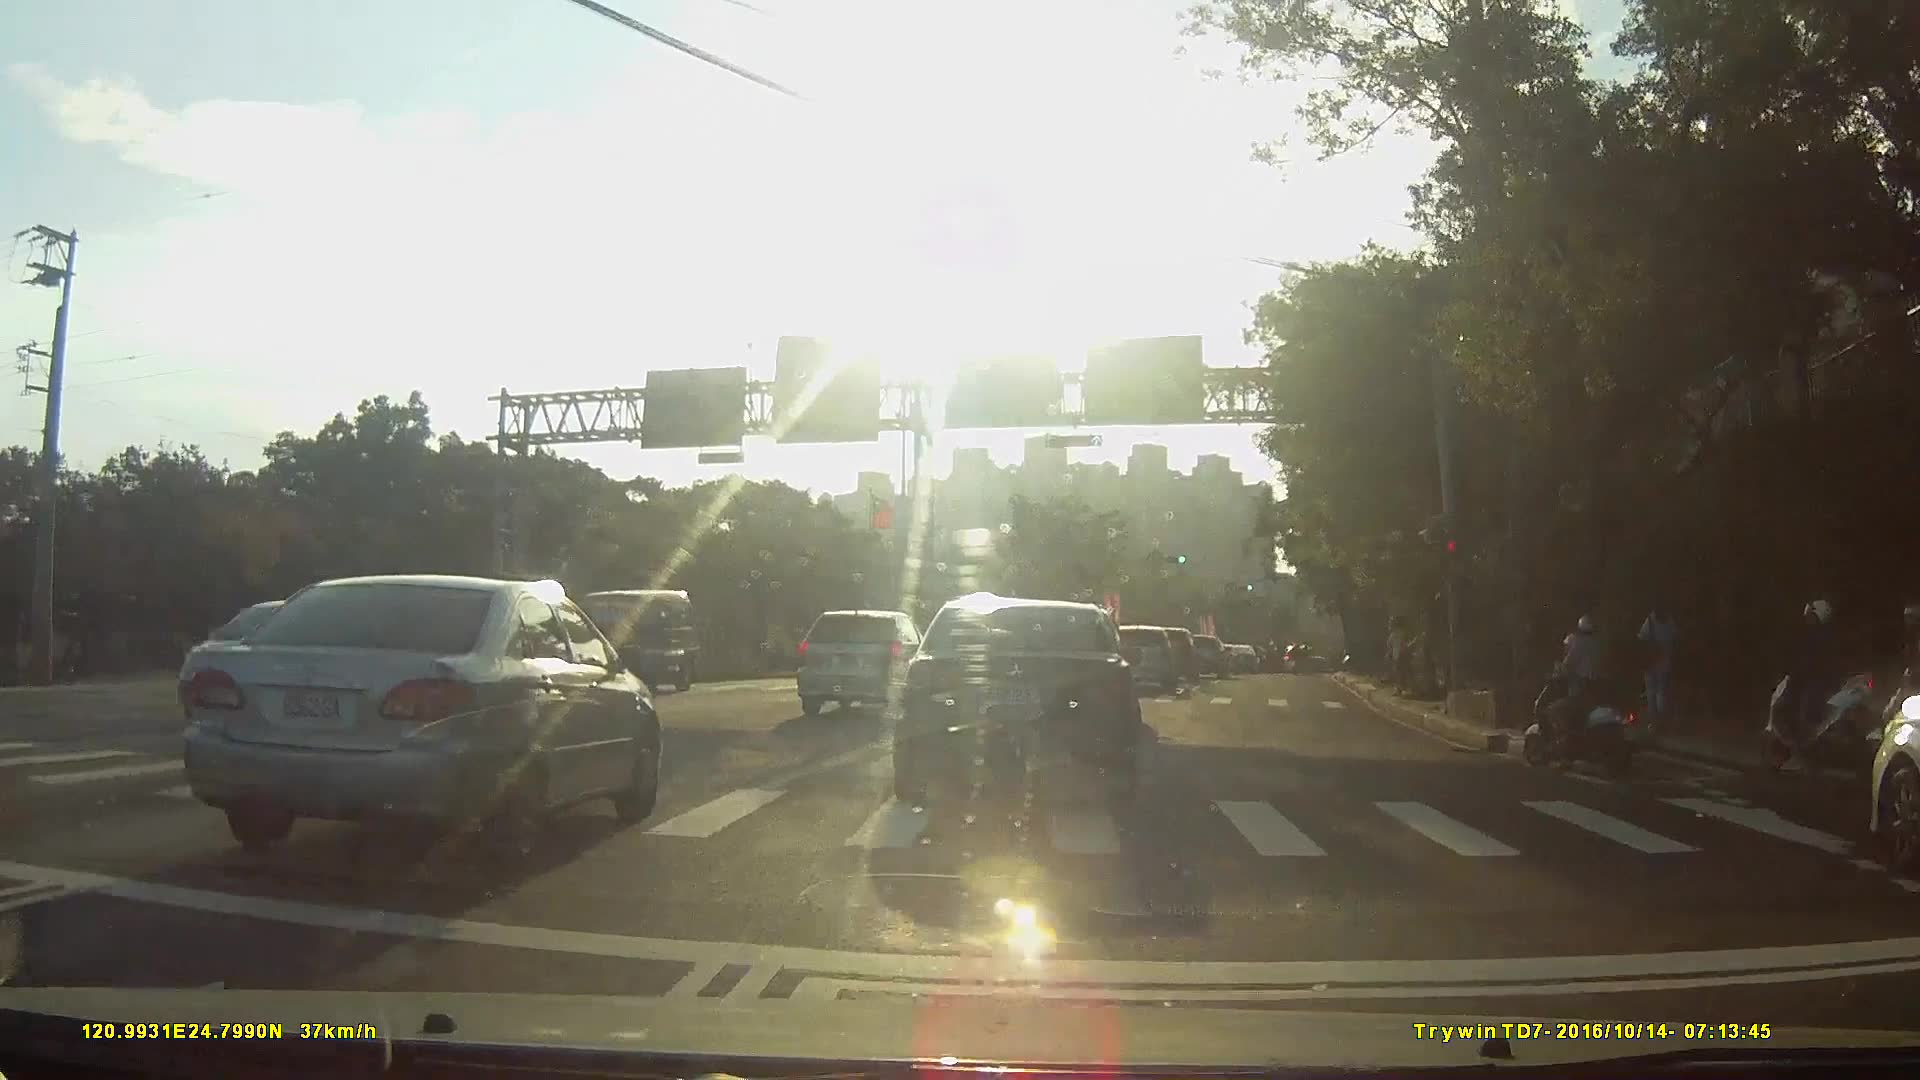pedestrian: (1628, 591, 1679, 732)
rider: (1769, 597, 1887, 773), (1528, 614, 1656, 776)
vehicle: (165, 573, 663, 869), (888, 594, 1138, 811), (1836, 659, 1920, 879), (545, 585, 703, 699), (795, 605, 941, 716), (1102, 626, 1176, 696), (1138, 628, 1200, 686), (1174, 633, 1224, 678), (1221, 646, 1258, 674)
